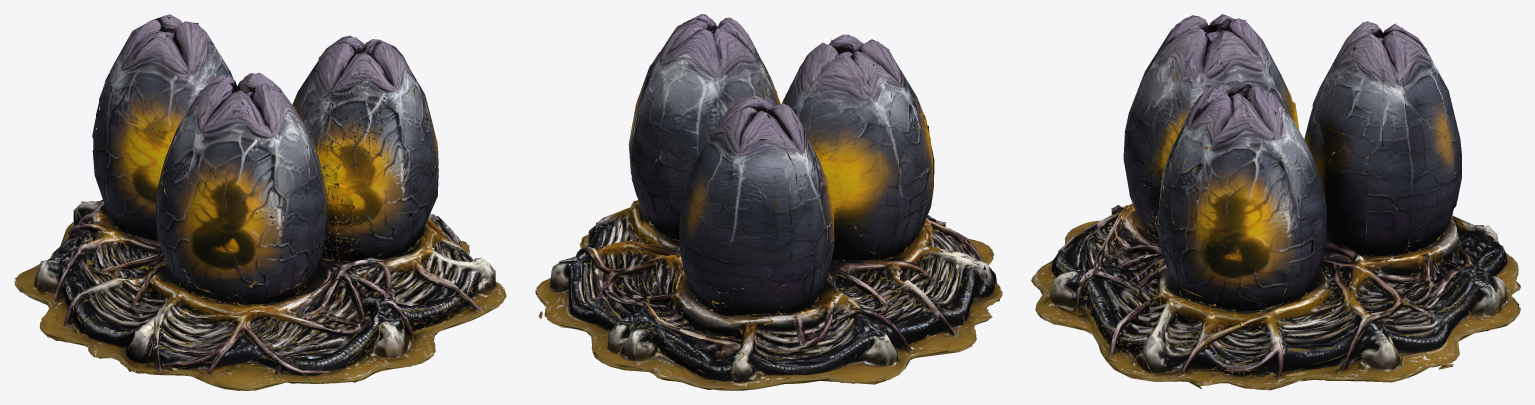
File: royal_egg_clutch_caul.glb
The picture shows the model from 3 angles, left to right: view 1: azimuth 30°, elevation 25°; view 2: azimuth 150°, elevation 25°; view 3: azimuth 270°, elevation 25°; orthographic projection. The views are drawn at different scales.
Parts seen in each view (by area): view 1: node_0; view 2: node_0; view 3: node_0.
Part boxes in pixels (x1,y1,x2,y2): node_0: [14, 14, 506, 390]; node_0: [535, 14, 1002, 390]; node_0: [1031, 14, 1520, 390].
Bounding box in the file's own units: 0.9972 × 0.5682 × 1.01.
Materials: 1 (1 with a texture image).
